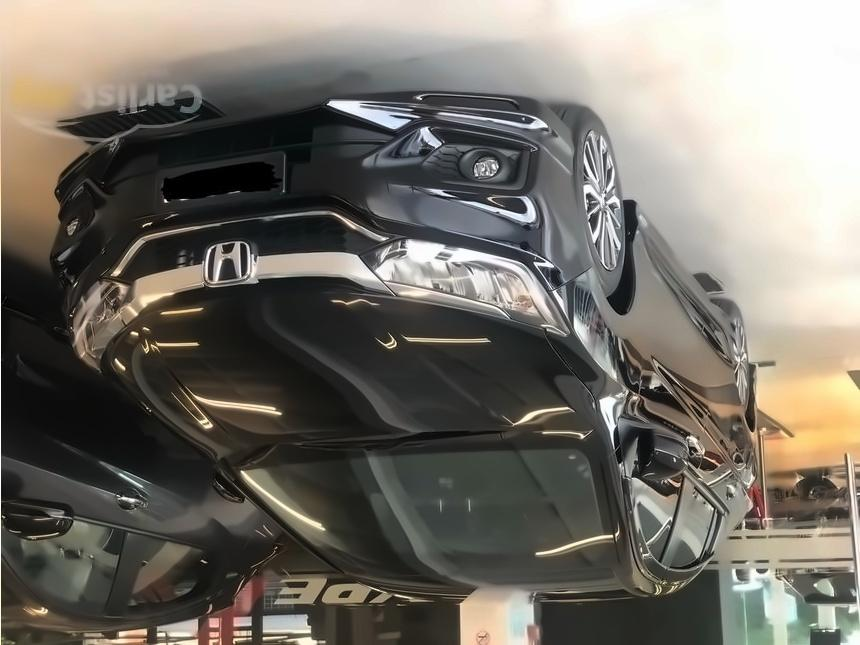Car hood: (88, 272, 600, 451)
Driver-s door - -F-R-: (615, 200, 705, 611)
Fender - -F-R-: (553, 218, 644, 446)
Front bumper: (38, 82, 613, 266)
Headlight - -L-: (56, 268, 153, 384)
Headlight - -R-: (348, 226, 576, 342)
Passenger-s door - -R-R-: (674, 275, 748, 606)
Rear light - -R-: (738, 473, 776, 519)
Side bumper - -R-: (610, 186, 744, 379)
Side mirror - -L-: (184, 442, 245, 515)
Side mirror - -R-: (614, 416, 691, 484)
